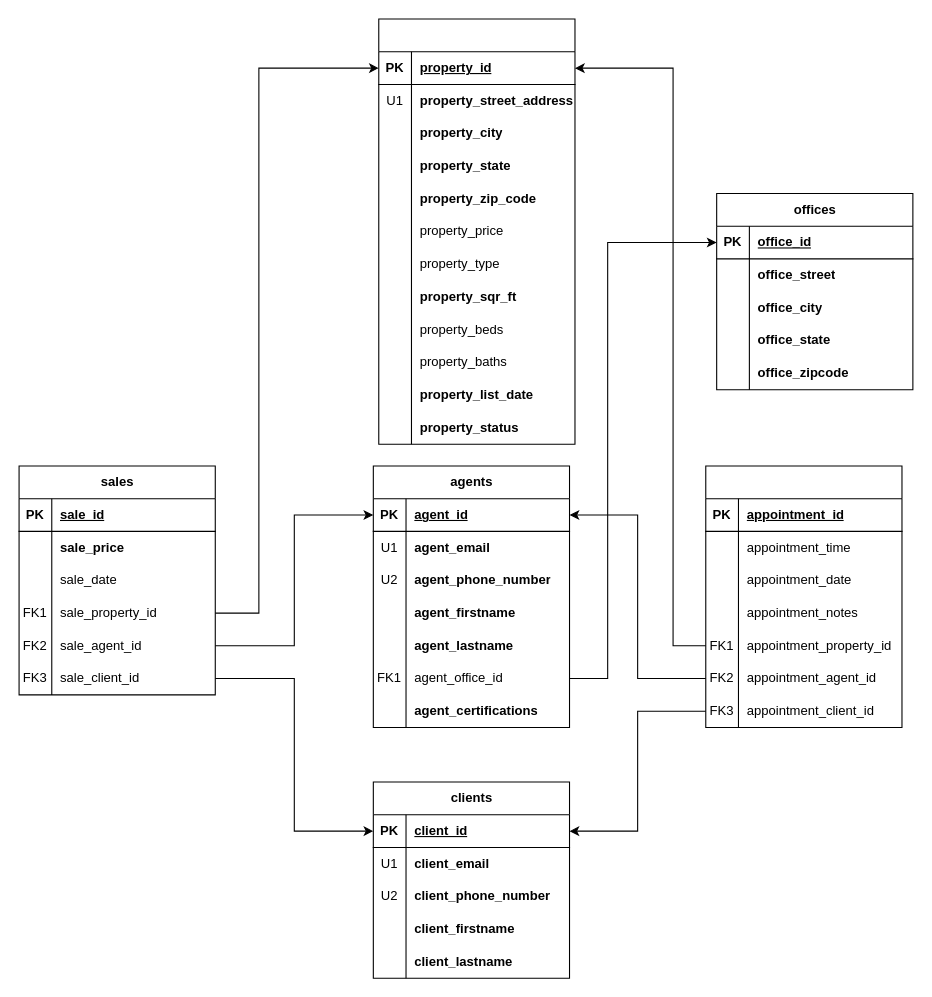
Some shapes in this 932 by 997 pixel diagram are drawn without their labels. The shapes that lost their labels are listed below. From the top down, each one's box as (x1, y1, x2, y2) in pixels, then its label:
(378, 18, 575, 444): properties
(705, 465, 902, 728): appointments
